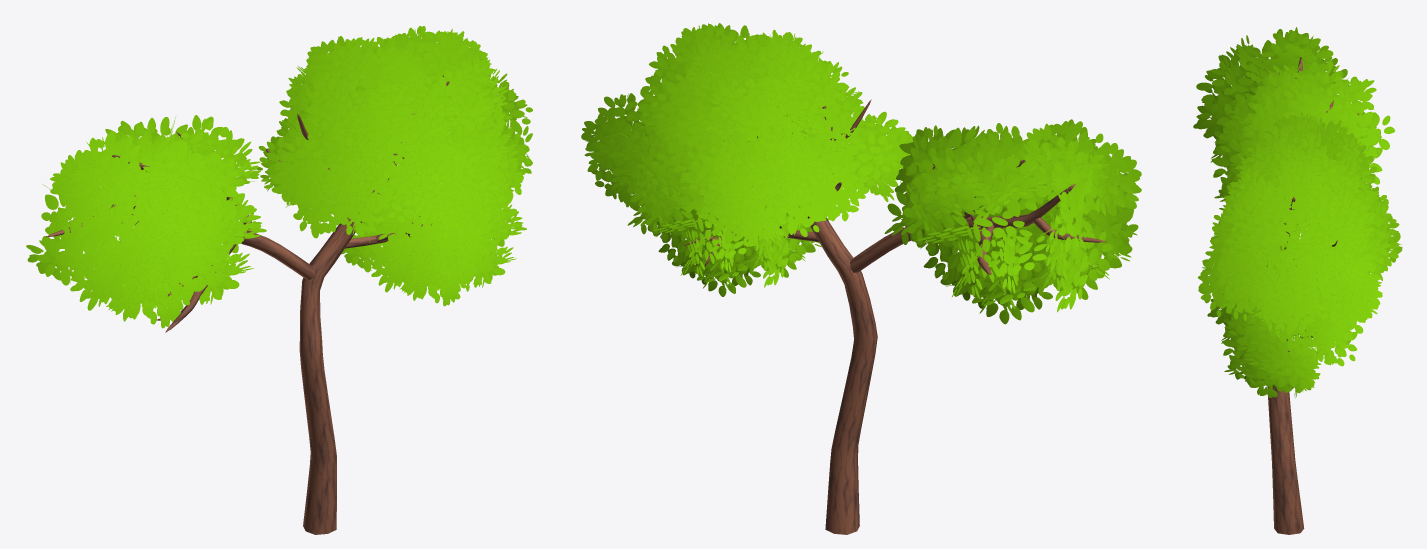
File: q_tree_d.fbx
3 renders of one model, left to right at view 1: azimuth 30°, elevation 25°; view 2: azimuth 150°, elevation 25°; view 3: azimuth 270°, elevation 25°, orthographic. The views are drawn at different scales.
Parts seen in each view (by area): view 1: q_tree_d; view 2: q_tree_d; view 3: q_tree_d.
Part boxes in pixels (x1,y1,x2,y2): q_tree_d: [26, 26, 532, 534]; q_tree_d: [581, 23, 1141, 534]; q_tree_d: [1193, 27, 1402, 534].
Bounding box in the file's own units: 1.11 × 1 × 0.4712.
2 materials, 2 textured.
